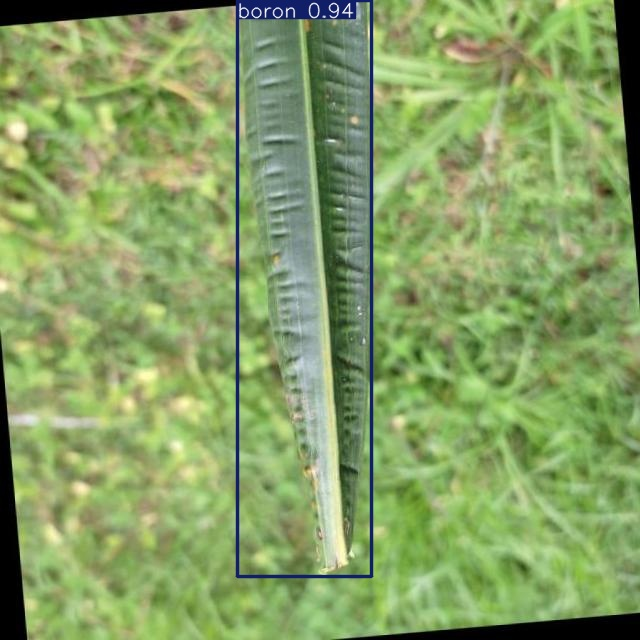nitrogen: (237, 0, 372, 577)
